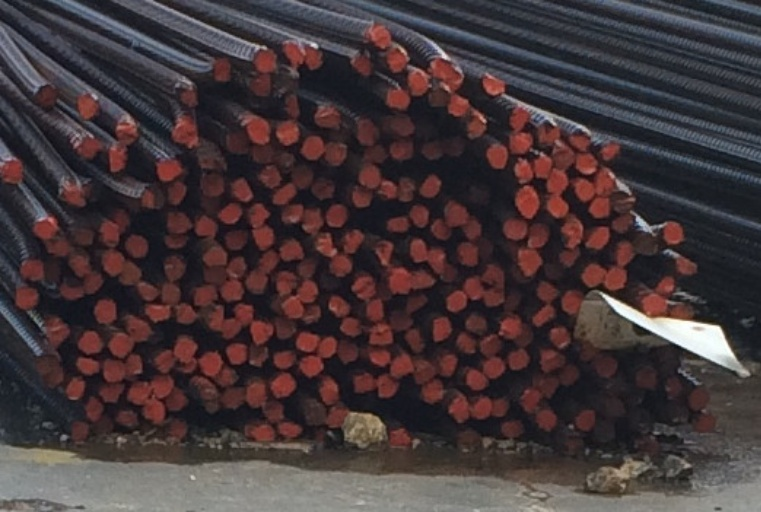dipstick: (132, 181, 163, 215), (33, 354, 66, 385), (56, 183, 87, 210), (72, 92, 101, 119), (514, 189, 540, 218), (169, 121, 198, 147), (17, 257, 46, 283), (105, 145, 134, 171), (163, 209, 191, 235), (43, 320, 69, 348), (172, 336, 201, 361), (536, 349, 567, 372), (270, 373, 296, 400), (195, 386, 222, 412), (197, 349, 224, 375), (428, 58, 456, 83), (122, 235, 150, 260), (101, 249, 126, 277), (1, 160, 26, 188), (559, 220, 583, 249), (199, 173, 228, 197), (247, 379, 270, 409), (99, 358, 126, 383), (157, 159, 186, 182), (104, 332, 134, 354), (412, 360, 438, 385), (298, 135, 324, 160), (351, 274, 376, 300), (314, 235, 340, 260), (301, 210, 327, 235), (244, 201, 269, 227), (163, 179, 189, 204), (110, 209, 135, 235), (418, 134, 445, 158), (366, 346, 393, 370), (385, 270, 413, 293), (465, 184, 493, 207), (368, 24, 393, 49), (552, 143, 577, 168), (580, 261, 604, 287), (545, 170, 569, 196), (518, 248, 542, 274), (419, 380, 445, 404), (404, 331, 428, 357), (303, 401, 329, 425), (112, 406, 138, 430), (95, 223, 121, 247), (80, 271, 106, 295), (114, 115, 138, 141), (200, 148, 227, 171), (140, 401, 167, 424), (91, 300, 118, 323), (126, 318, 153, 341), (222, 230, 251, 251), (73, 355, 102, 376), (200, 266, 229, 287), (165, 229, 194, 250), (279, 43, 304, 67), (253, 49, 278, 73), (462, 111, 486, 136), (687, 387, 712, 411), (245, 120, 270, 144), (324, 203, 349, 227), (279, 295, 304, 319), (226, 257, 251, 281), (218, 317, 242, 342), (122, 352, 146, 377), (536, 374, 559, 400), (292, 166, 315, 192), (310, 178, 336, 201), (255, 248, 278, 274), (200, 243, 226, 266), (211, 366, 237, 389), (80, 397, 106, 420), (148, 375, 175, 397), (126, 382, 153, 404), (173, 303, 200, 325), (383, 88, 411, 109), (75, 333, 103, 354), (227, 134, 251, 158), (274, 272, 298, 296), (245, 270, 269, 294), (508, 106, 531, 131), (586, 227, 609, 252), (504, 347, 529, 370), (430, 317, 453, 342), (373, 240, 396, 265), (202, 305, 225, 330), (163, 257, 188, 280), (15, 287, 40, 310), (314, 107, 340, 129), (509, 131, 535, 153), (388, 139, 414, 161), (390, 355, 412, 381), (322, 144, 348, 166), (368, 327, 394, 349), (220, 389, 246, 411), (486, 143, 507, 170), (248, 321, 275, 342), (145, 302, 172, 323), (72, 135, 99, 156), (37, 81, 58, 108), (354, 119, 374, 147), (537, 122, 560, 146), (328, 296, 351, 320), (61, 277, 85, 300), (642, 294, 667, 316), (545, 197, 570, 219), (469, 396, 491, 421), (246, 346, 271, 368), (158, 282, 183, 304), (605, 264, 626, 290), (542, 254, 563, 280), (481, 332, 502, 358), (411, 270, 437, 291), (117, 263, 143, 284), (47, 237, 73, 258), (663, 373, 682, 401), (611, 191, 634, 214), (450, 398, 473, 421), (446, 204, 469, 227), (357, 166, 380, 189), (340, 229, 363, 252), (328, 254, 351, 277), (318, 381, 341, 404), (220, 203, 243, 226), (385, 50, 409, 72), (405, 69, 427, 93), (577, 153, 601, 175), (613, 244, 637, 266), (560, 291, 584, 313), (483, 261, 505, 285), (437, 354, 459, 378), (445, 290, 469, 312), (461, 278, 485, 300), (231, 179, 253, 203), (192, 216, 216, 238), (512, 159, 533, 184), (570, 342, 595, 363), (595, 357, 620, 378), (457, 244, 478, 269), (280, 242, 305, 263), (152, 351, 177, 372), (418, 176, 444, 196), (388, 312, 414, 332), (387, 215, 413, 235), (248, 145, 275, 164), (192, 286, 219, 305), (302, 47, 324, 70), (350, 53, 372, 76), (549, 325, 571, 348), (535, 408, 557, 431), (466, 313, 488, 336), (376, 376, 399, 398), (374, 177, 397, 199), (252, 226, 274, 249), (574, 178, 595, 202), (575, 408, 596, 432), (462, 217, 483, 241), (366, 299, 387, 323), (301, 356, 325, 377), (328, 405, 352, 426), (295, 331, 319, 352), (250, 424, 278, 442), (251, 74, 271, 99), (391, 117, 416, 137), (32, 219, 57, 239), (667, 303, 693, 322), (506, 288, 525, 314), (403, 293, 429, 312), (387, 427, 413, 446), (570, 129, 592, 151), (221, 281, 243, 303), (503, 218, 526, 239), (694, 411, 717, 432), (499, 317, 522, 338), (507, 263, 530, 284), (273, 152, 296, 173), (258, 166, 281, 187), (235, 302, 258, 323), (481, 77, 505, 97), (635, 234, 659, 254), (538, 282, 562, 302), (482, 358, 506, 378), (439, 265, 459, 289), (275, 320, 299, 340), (262, 401, 286, 421), (164, 389, 188, 409), (280, 204, 305, 223), (272, 351, 297, 370), (136, 281, 162, 299), (533, 304, 555, 325), (491, 398, 512, 420), (277, 123, 299, 144), (338, 342, 359, 364), (300, 306, 322, 327), (74, 228, 96, 249), (527, 225, 547, 248), (521, 389, 541, 412), (501, 417, 524, 437), (176, 84, 199, 104), (353, 373, 376, 393), (318, 336, 338, 359), (224, 344, 247, 364), (535, 153, 553, 178), (428, 246, 445, 272), (612, 211, 633, 232), (636, 368, 657, 389), (428, 218, 449, 239), (69, 251, 90, 272), (663, 223, 683, 245), (591, 196, 611, 218), (448, 136, 468, 158), (296, 283, 318, 303), (295, 260, 318, 279), (64, 380, 87, 399), (397, 178, 415, 202), (282, 96, 302, 117), (448, 96, 469, 116), (513, 326, 534, 346), (469, 370, 490, 390), (595, 422, 617, 441), (328, 126, 350, 145), (280, 421, 302, 440), (427, 87, 450, 105), (410, 238, 426, 263), (273, 183, 293, 203), (72, 422, 92, 442), (596, 171, 615, 192), (557, 367, 579, 385), (408, 206, 430, 224), (454, 335, 475, 353), (602, 401, 624, 418), (340, 320, 362, 337), (655, 278, 678, 294), (364, 146, 385, 163), (558, 249, 580, 265), (482, 289, 504, 305), (211, 62, 230, 80), (600, 143, 619, 161), (677, 259, 697, 276), (478, 238, 495, 258), (353, 189, 371, 205)
